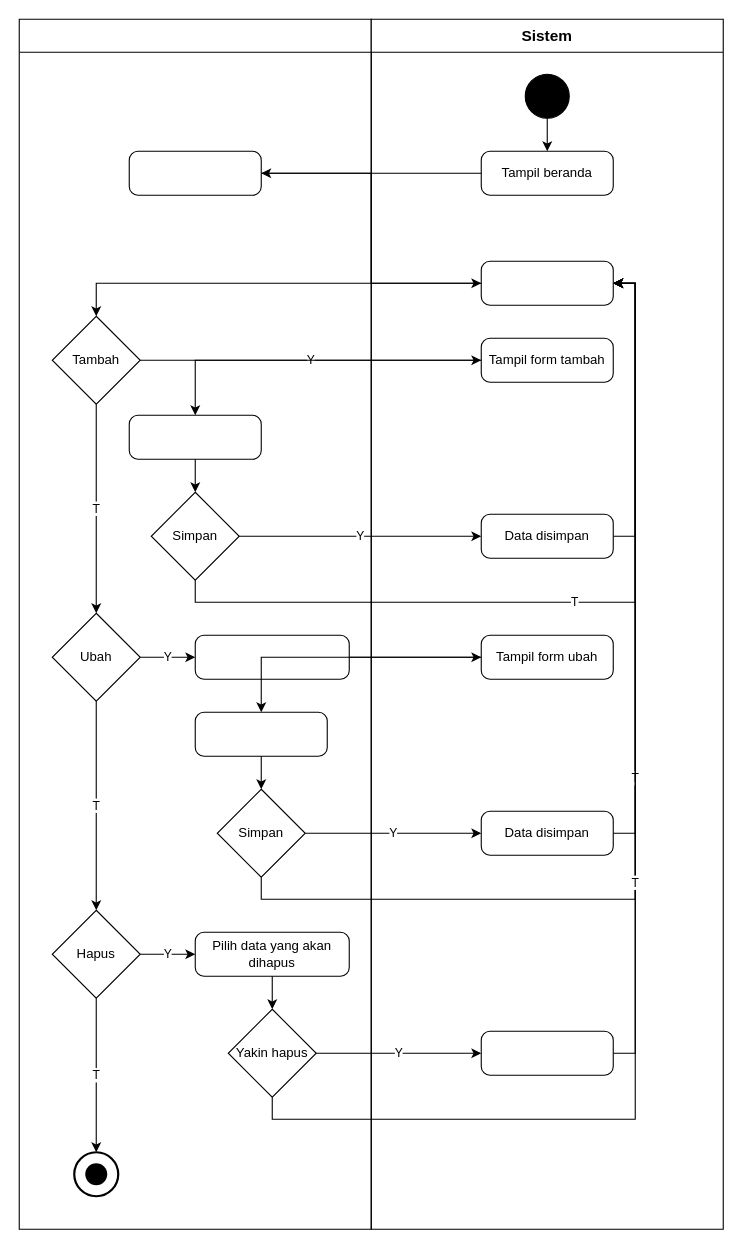
This 743x1249 diagram has some shape labels left out. The box of each missing label's shape, as (x1, y1, x2, y2) in pixels:
Admin: (18, 18, 371, 1229)
Data dihapus: (480, 1030, 613, 1075)
Pilih data yang di ubah: (194, 634, 349, 679)
Pilih menu pelanggan: (128, 150, 261, 195)
Tambah data: (128, 414, 261, 459)
Tampil data pelanggan: (480, 260, 613, 305)
Ubah data: (194, 711, 327, 756)
